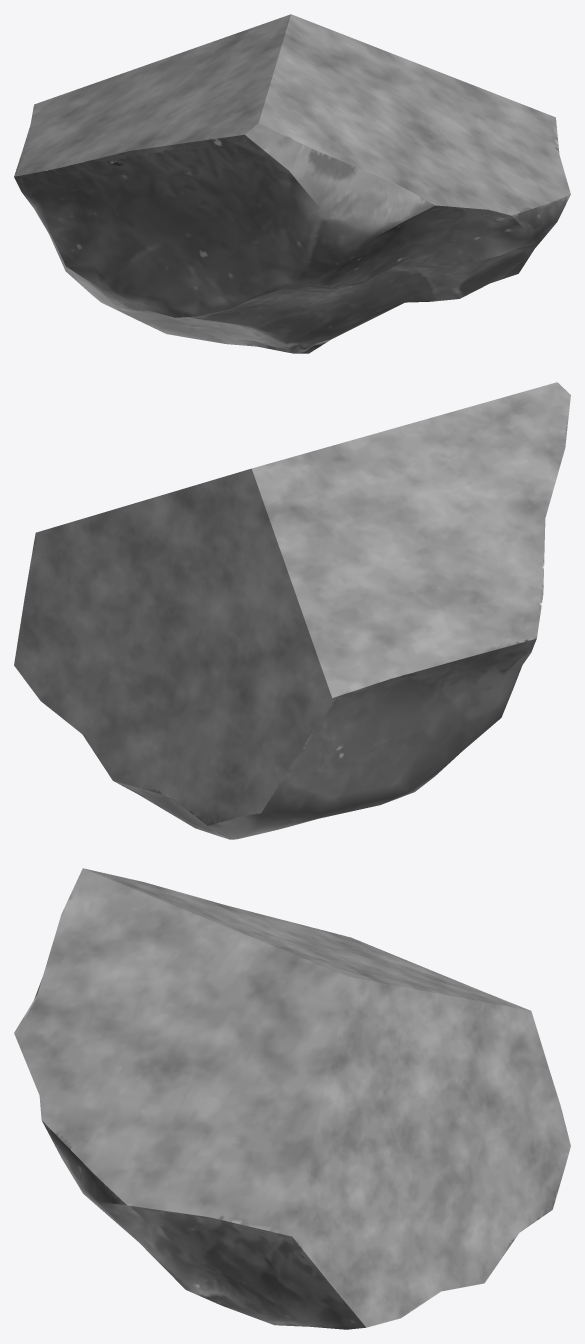
The model's file is frag_03.glb.
The picture shows the model from 3 angles, top to bottom: view 1: azimuth 30°, elevation 25°; view 2: azimuth 150°, elevation 25°; view 3: azimuth 270°, elevation 25°; orthographic projection. The views are drawn at different scales.
Parts seen in each view (by area): view 1: frag_03; view 2: frag_03; view 3: frag_03.
Part boxes in pixels (x1,y1,x2,y2): frag_03: [14, 14, 570, 353]; frag_03: [14, 382, 570, 839]; frag_03: [14, 868, 570, 1329].
Size of the model in its own units: 1.83 by 1.12 by 1.7.
Materials: 1 (1 with a texture image).
